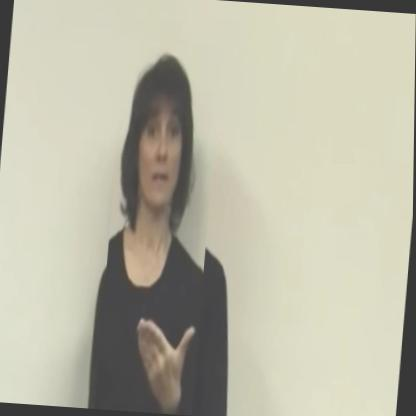ThankYou: (96, 40, 223, 416)
